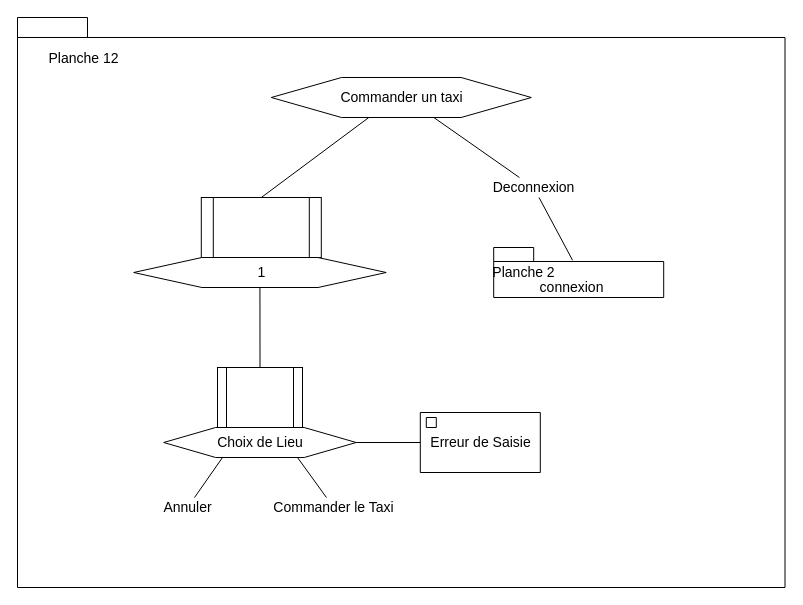
Image size: 803x605. Some labels were removed from this diagram. Here are the shapes that lost their labels. From the top down, the box of each, then its label:
(200, 196, 321, 258): Liste de Taxi: (-prix -note -voiture)
(216, 366, 302, 428): Lieu (coo x,y)
